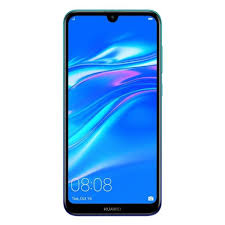huawei: (58, 7, 163, 218)
